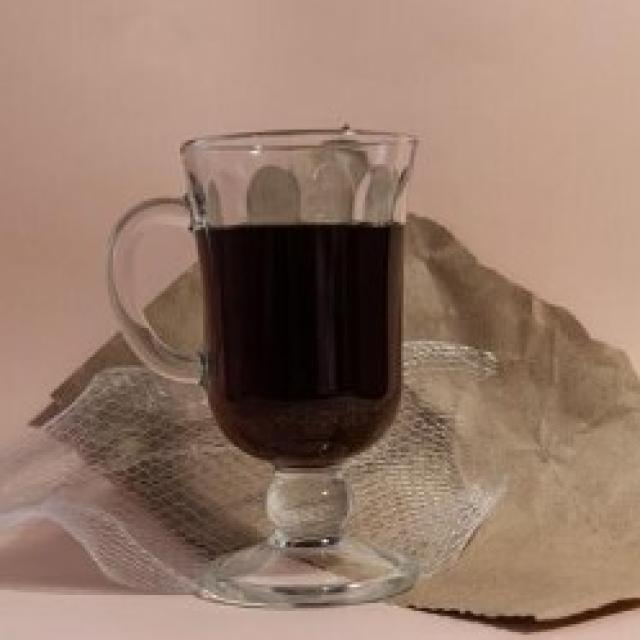electronic: (97, 118, 428, 612)
